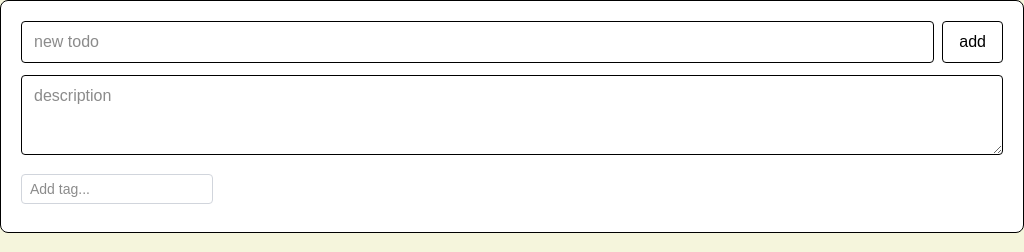
Test: AddTodo Component › adds tag when Enter is pressed in tag input
Type "newtag" into the field with placeholder "Add tag...". click: coordinates (117, 189)
box: [21,174,213,204]
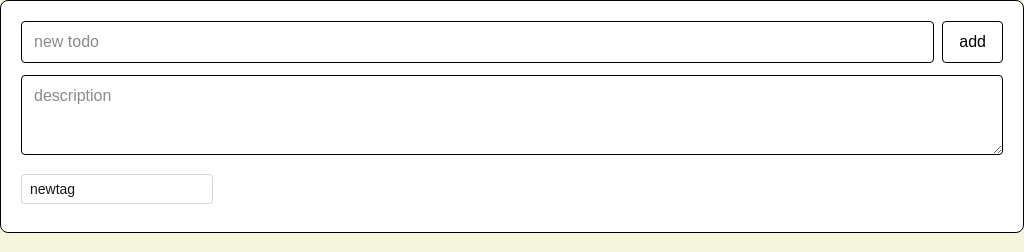
Press Enter in the field with placeholder "Add tag...", box [21,174,213,204]
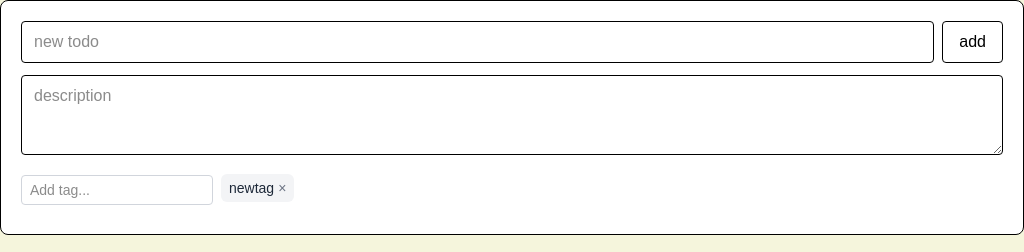
Expected: the text "newtag" is shown, [229,180,274,196]
